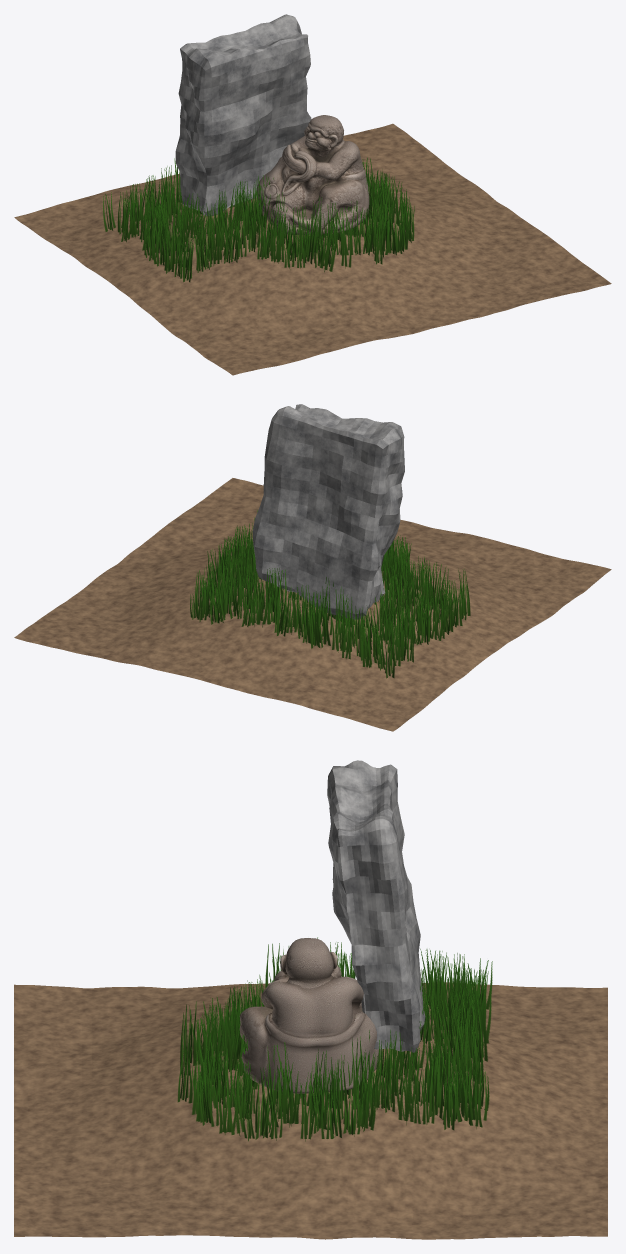
The model's file is sumsel.glb.
The picture shows the model from 3 angles, top to bottom: view 1: azimuth 30°, elevation 25°; view 2: azimuth 150°, elevation 25°; view 3: azimuth 270°, elevation 25°; orthographic projection. The views are drawn at different scales.
Visible parts, largest first — view 1: Ground, Monolith, GrassField, tripo_node_330e1b4b-6f40-454a-ac0d-dad85e9e8f5d; view 2: Ground, Monolith, GrassField; view 3: Ground, GrassField, Monolith, tripo_node_330e1b4b-6f40-454a-ac0d-dad85e9e8f5d.
Boxes of the visible parts, <box> form: Ground: <box>14,123,611,375</box>; Monolith: <box>175,14,311,216</box>; GrassField: <box>103,157,414,282</box>; tripo_node_330e1b4b-6f40-454a-ac0d-dad85e9e8f5d: <box>256,115,369,235</box>; Ground: <box>14,478,611,731</box>; Monolith: <box>252,404,404,619</box>; GrassField: <box>190,510,470,678</box>; Ground: <box>14,982,607,1239</box>; GrassField: <box>177,937,492,1141</box>; Monolith: <box>327,760,425,1052</box>; tripo_node_330e1b4b-6f40-454a-ac0d-dad85e9e8f5d: <box>239,938,381,1093</box>.
Size of the model in its own units: 4 by 2.21 by 4.03.
Materials: 4 (4 with a texture image).
